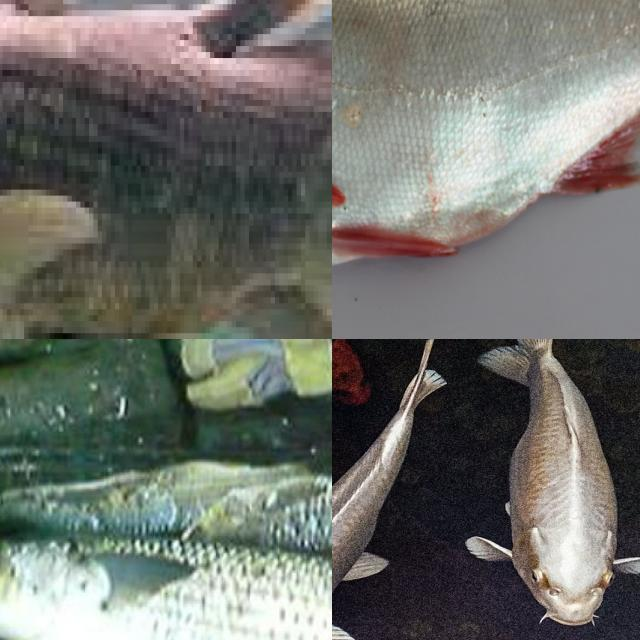fish: (0, 0, 332, 339), (332, 0, 640, 266), (332, 339, 596, 640), (0, 447, 332, 640)
